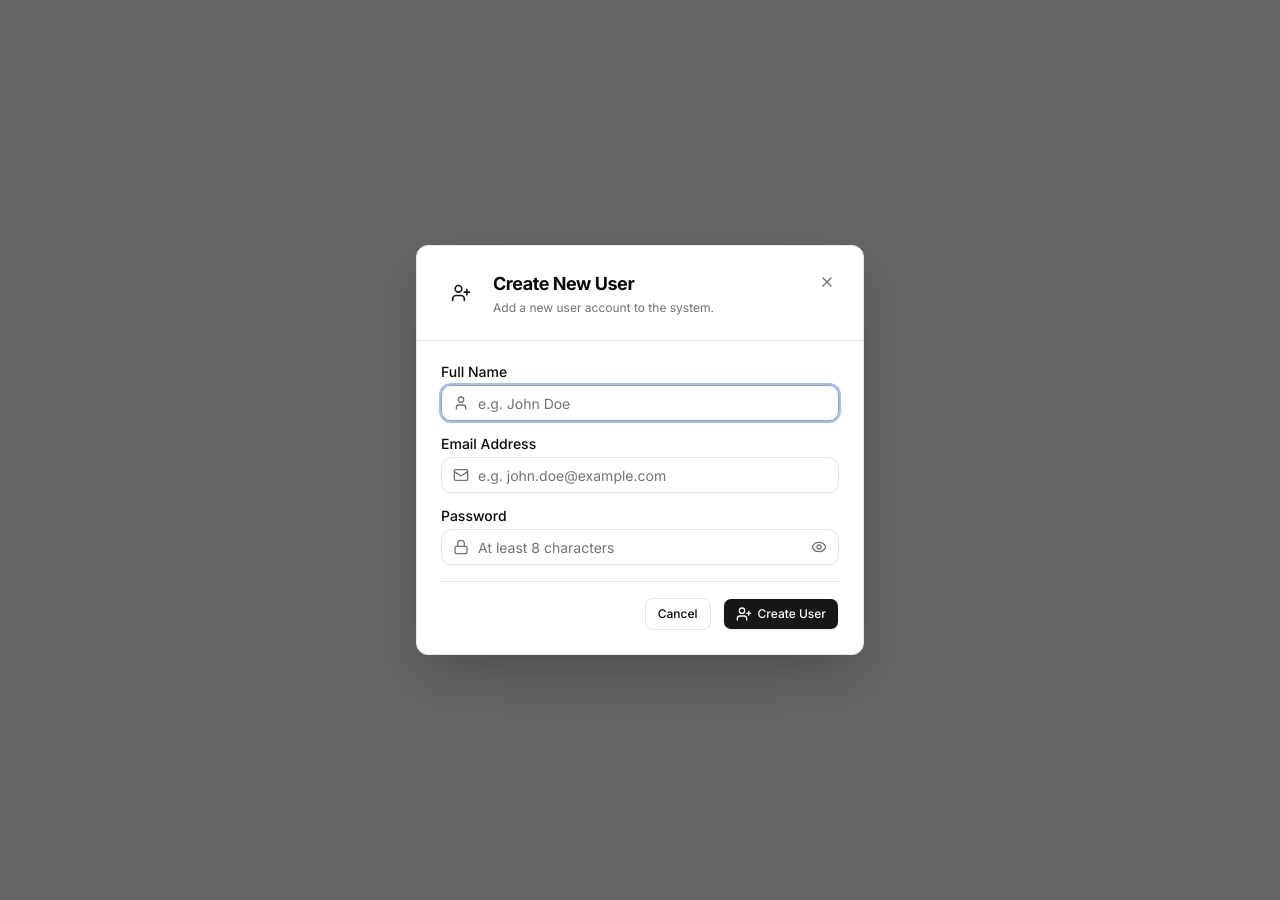
it: CreateUserModal Component Tests › 2. Form Validation Rules › shows error when name is shorter than 3 characters
This screenshot has width=1280, height=900.
Type "Al" into the field labelled "Full Name" at (640, 403), box [441,385,839,421]
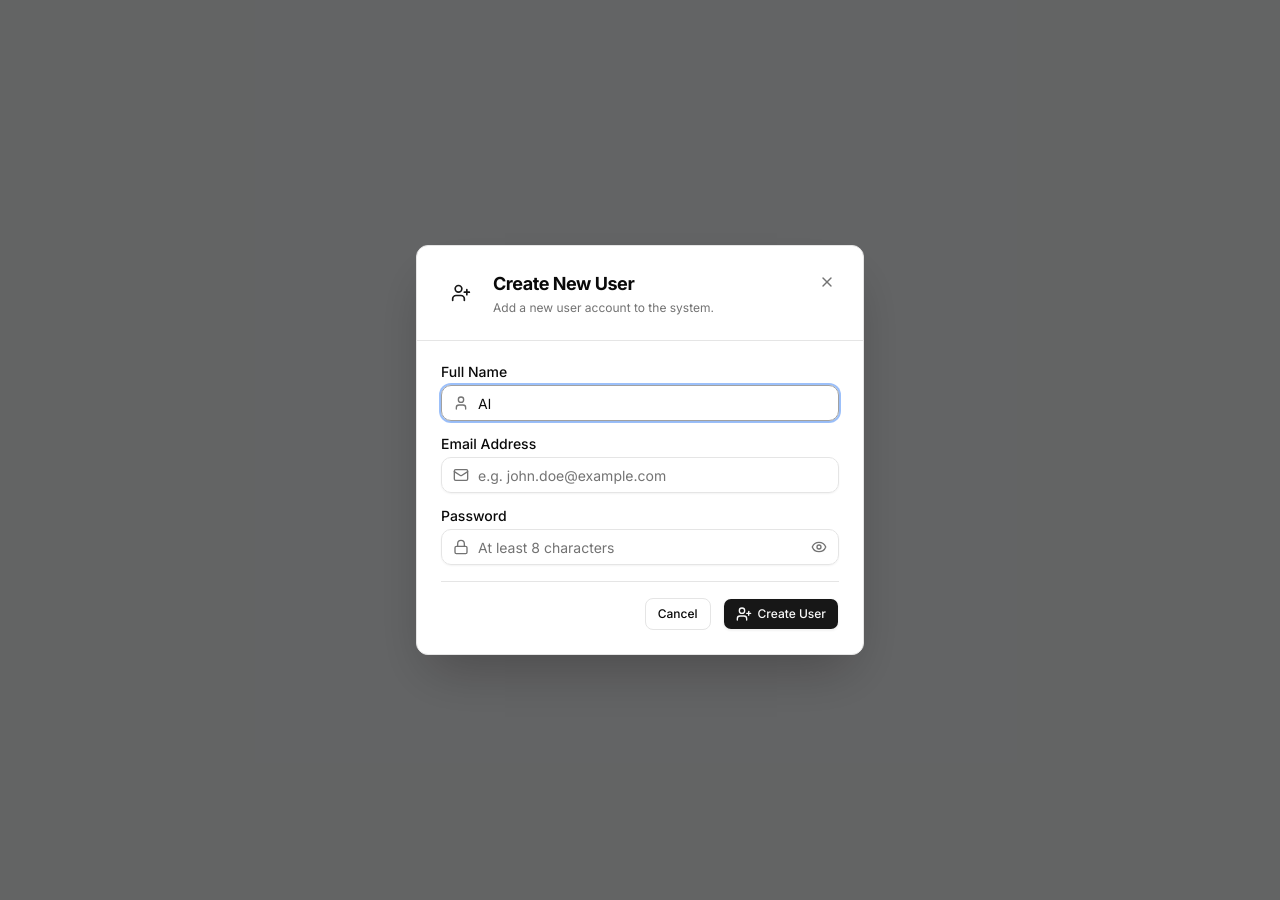
Click the button "Create User" at (781, 614), box [722,598,839,630]
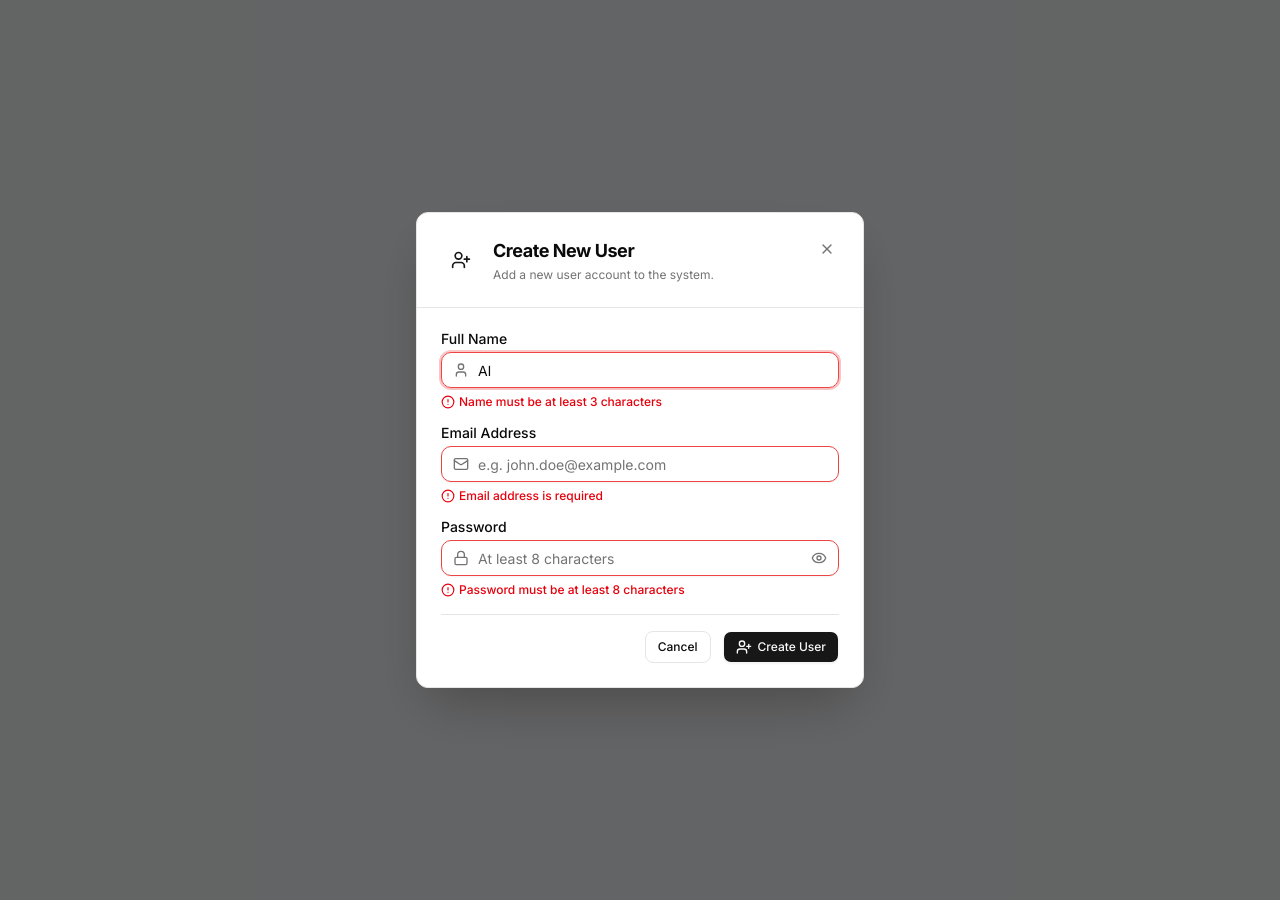
Check: the text "Name must be at least 3 characters" is shown, box [459,394,662,410]
